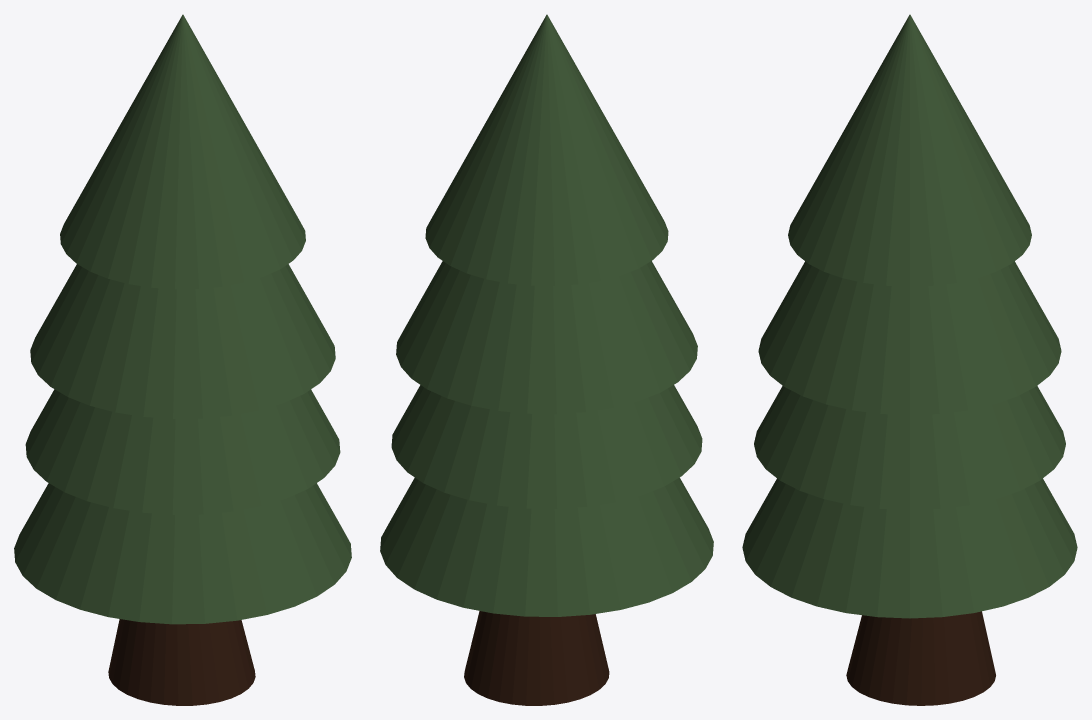
Rendered from Tree_0.fbx.
The picture shows the model from 3 angles, left to right: view 1: azimuth 30°, elevation 25°; view 2: azimuth 150°, elevation 25°; view 3: azimuth 270°, elevation 25°; orthographic projection.
Visible parts, largest first — view 1: Cone.003, Cone.002, Cone, Cone.001, Bark; view 2: Cone.003, Cone.002, Cone, Cone.001, Bark; view 3: Cone.003, Cone.002, Cone, Cone.001, Bark.
Boxes of the visible parts, x1=… form: Cone.003: x1=60, y1=14, x2=305, y2=289; Cone.002: x1=30, y1=264, x2=335, y2=418; Cone: x1=14, y1=483, x2=351, y2=624; Cone.001: x1=25, y1=389, x2=340, y2=514; Bark: x1=108, y1=619, x2=255, y2=705; Cone.003: x1=425, y1=14, x2=668, y2=285; Cone.002: x1=396, y1=261, x2=697, y2=414; Cone: x1=380, y1=477, x2=713, y2=616; Cone.001: x1=391, y1=385, x2=702, y2=508; Bark: x1=464, y1=611, x2=609, y2=705; Cone.003: x1=788, y1=14, x2=1031, y2=286; Cone.002: x1=758, y1=261, x2=1061, y2=414; Cone: x1=742, y1=478, x2=1077, y2=618; Cone.001: x1=754, y1=386, x2=1065, y2=509; Bark: x1=846, y1=611, x2=995, y2=705.
Size of the model in its own units: 223 by 483 by 223.
